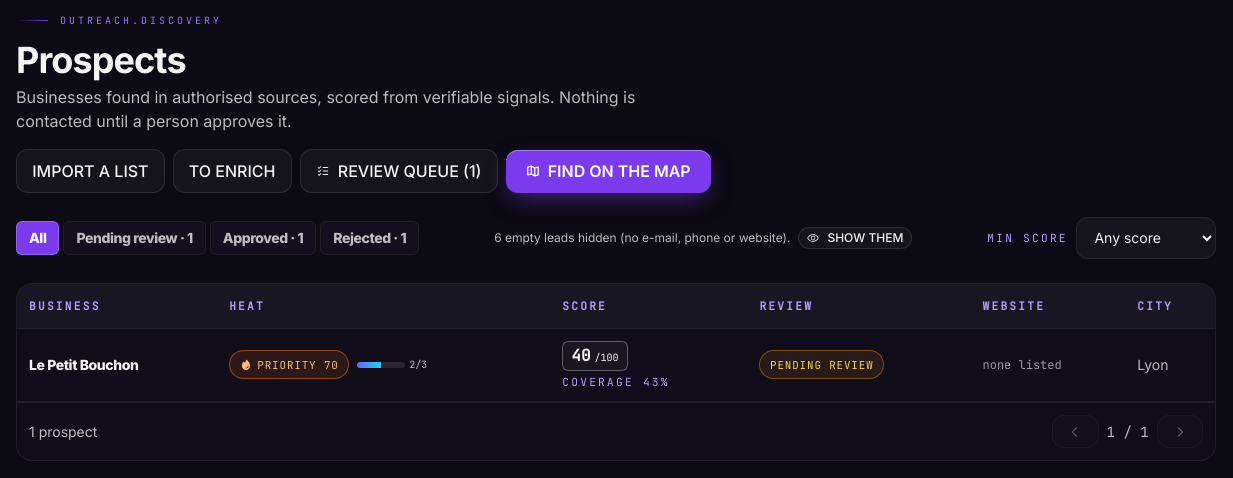
Scenario: Prospects list › leaves out the empty leads (no e-mail, phone or website), says how many, and brings them back on request
The image size is (1233, 478).
Expected: the message "6 empty leads hidden (no e-mail, phone or website)." is shown, [494,230,790,246]
Click the button "SHOW THEM": point(855, 238) [798,227,912,249]
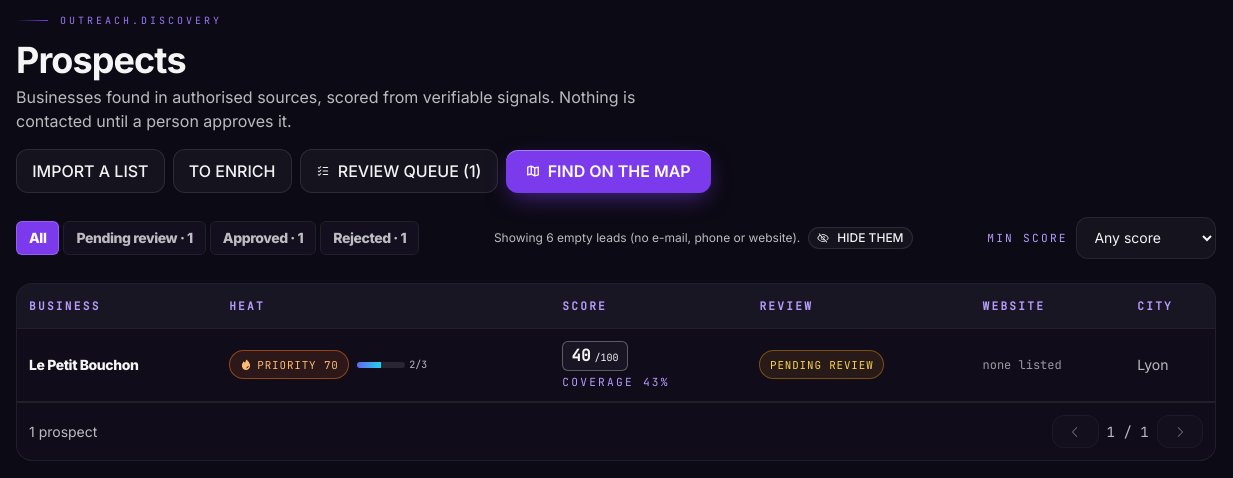
Expected: the message "Showing 6 empty leads (no e-mail, phone or website)." is shown, [494,230,800,246]
